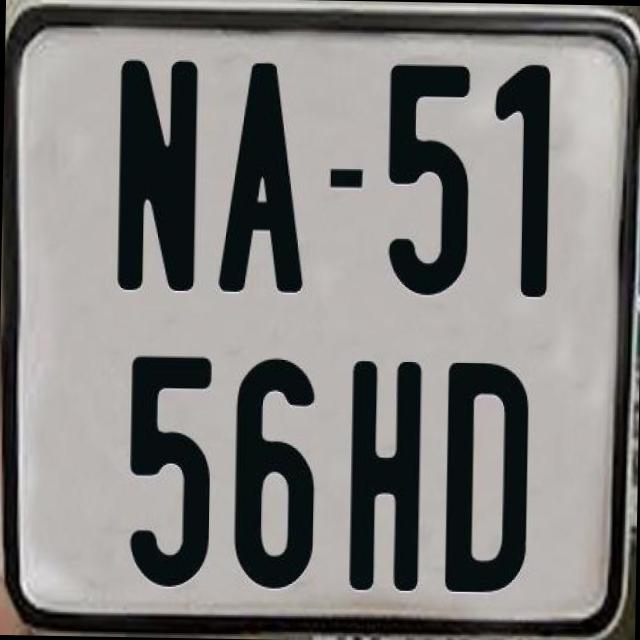1: (491, 64, 557, 300)
5: (384, 60, 472, 292), (124, 351, 210, 588)
6: (230, 353, 318, 594)
A: (214, 62, 302, 298)
D: (440, 361, 530, 597)
H: (349, 358, 429, 588)
N: (112, 55, 194, 288)
